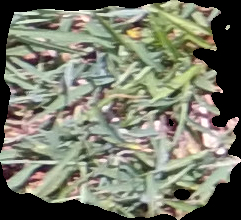grass: (1, 1, 240, 218)
